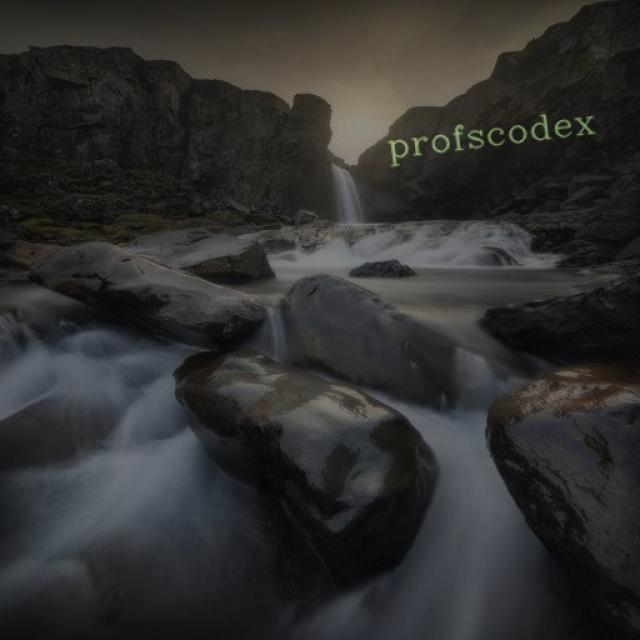watermark: (379, 105, 596, 163)
